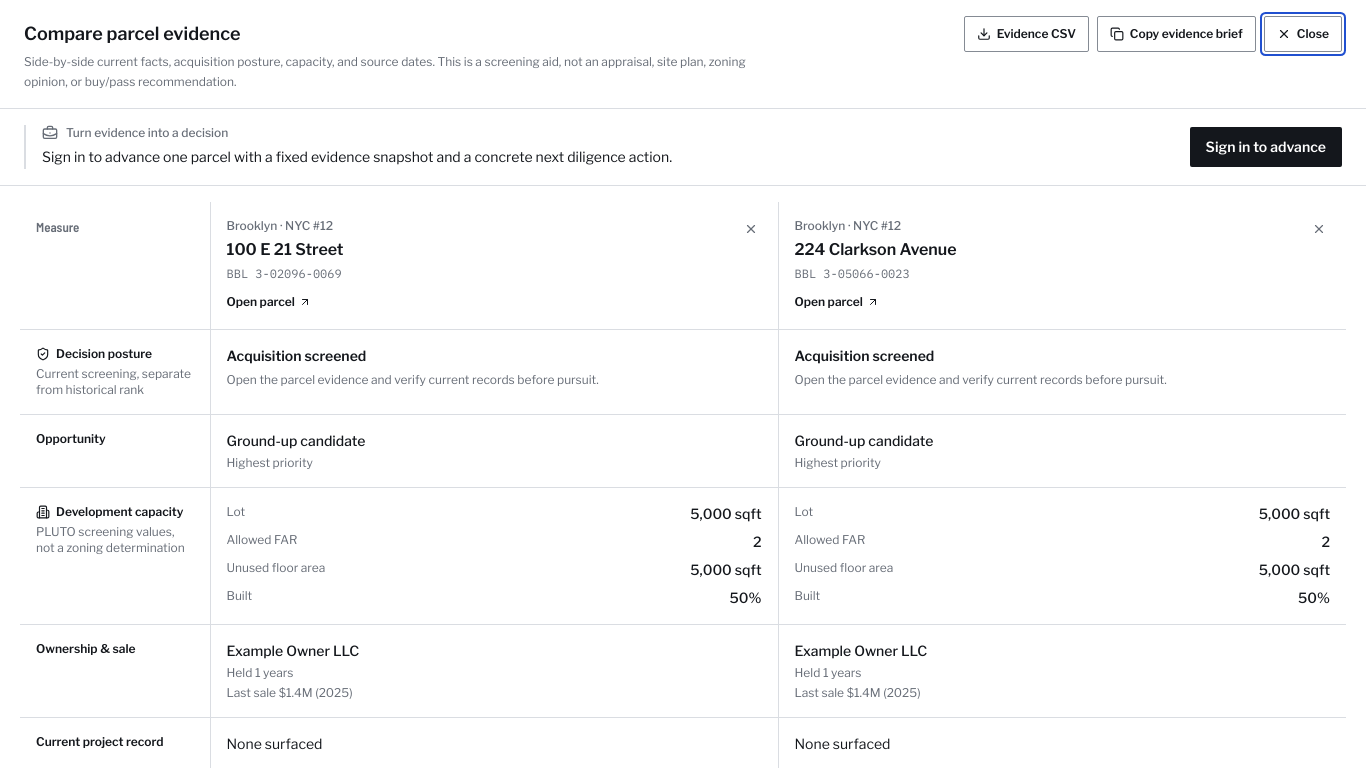
Scenario: ParcelComparisonDesk › keeps copy failure visible without breaking comparison
The image size is (1366, 768).
Click the button "Copy evidence brief": (1176, 34) left=1097, top=16, right=1256, bottom=52
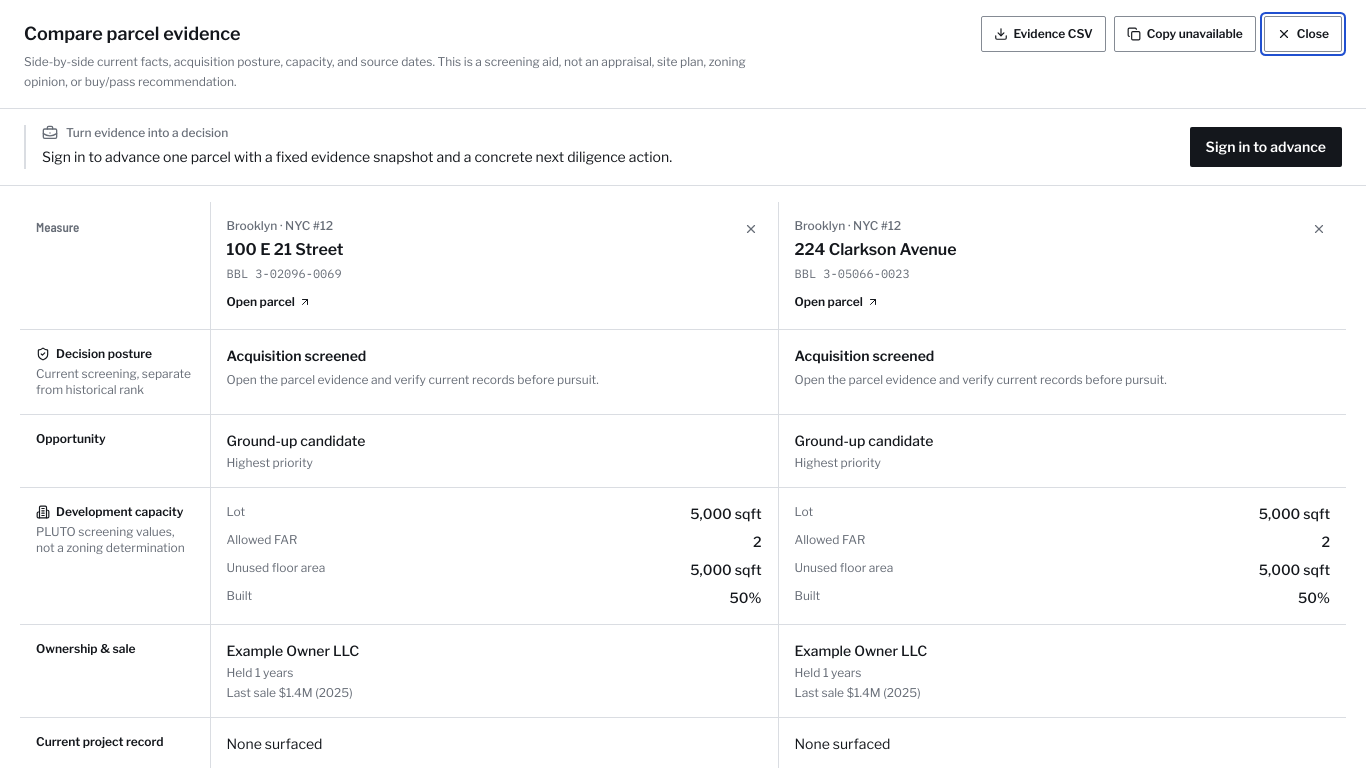
Expected: the text "Development capacity" is shown, left=36, top=504, right=194, bottom=520
Now the button "Copy unavailable" is shown, box left=1114, top=16, right=1256, bottom=52
